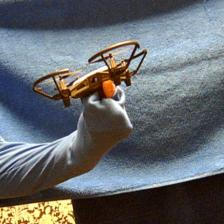drone: (32, 40, 148, 110)
